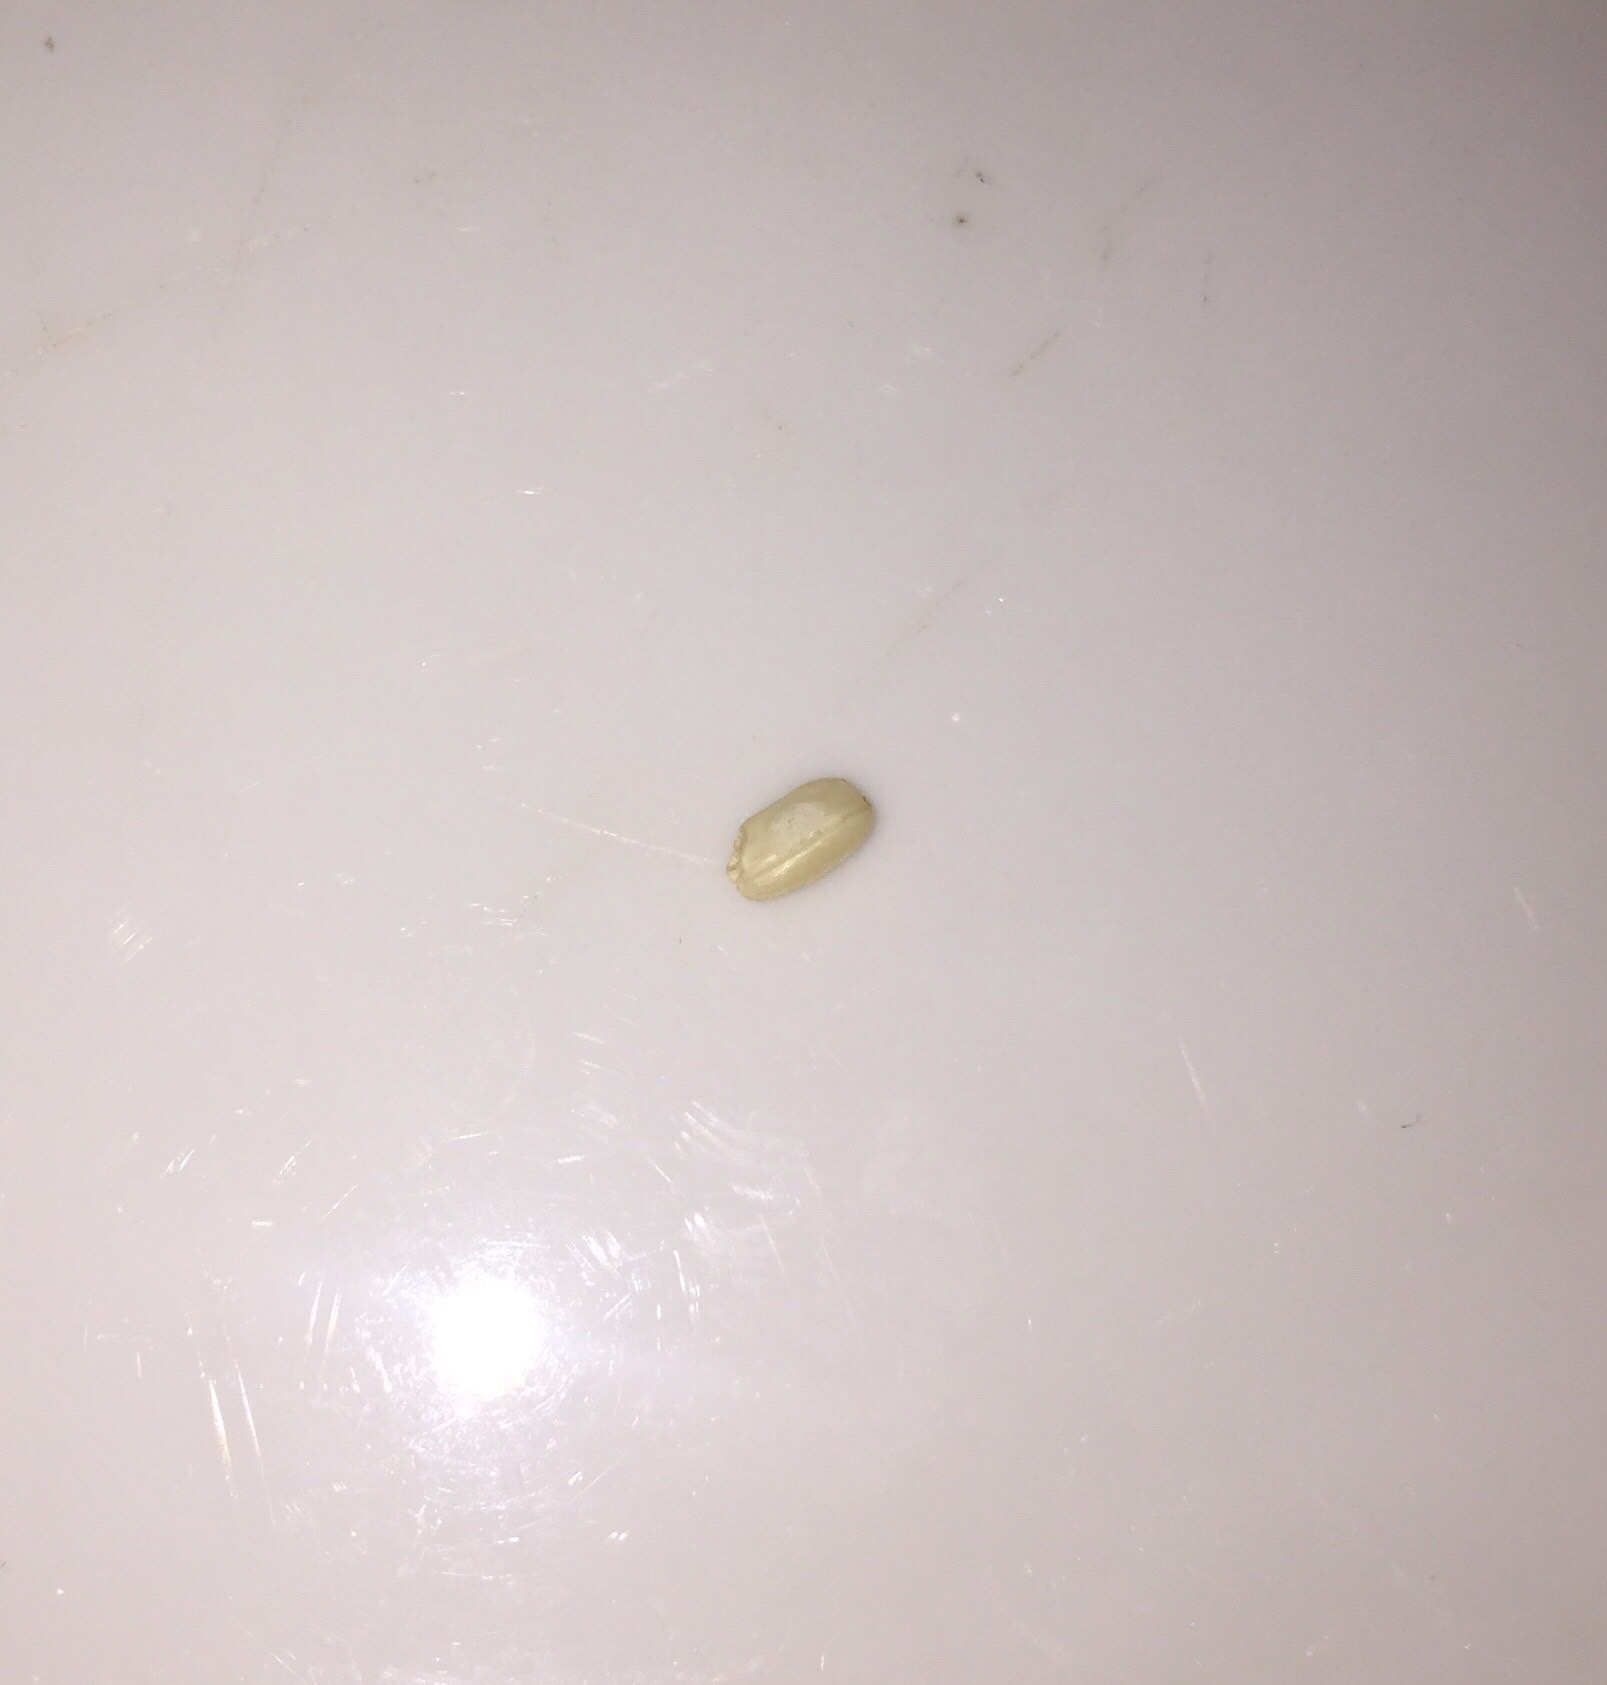Gao Lut Bac: (713, 742, 889, 915)
